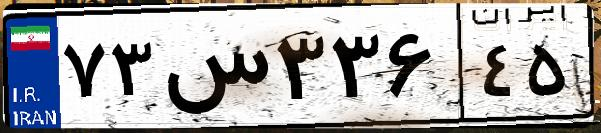3: (270, 28, 330, 110), (330, 28, 385, 110), (110, 28, 158, 98)
4: (475, 38, 525, 113)
5: (525, 38, 570, 115)
6: (385, 28, 445, 110)
7: (57, 26, 110, 100)
س: (158, 20, 270, 120)
